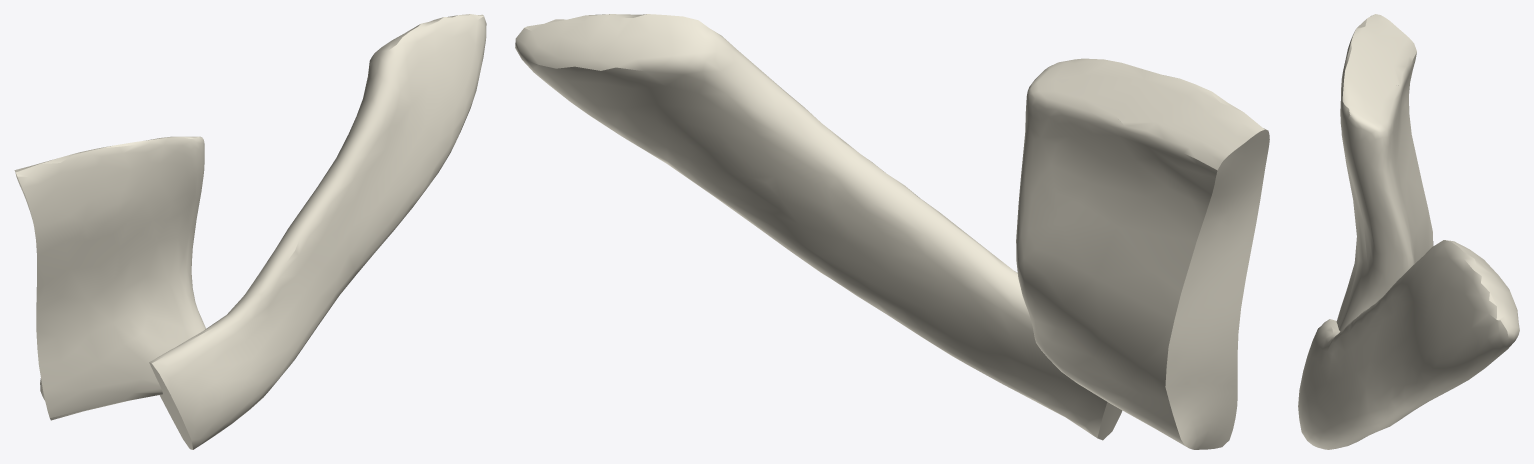
The model's file is fma323753-l_cx305m.glb.
3 renders of one model, left to right at view 1: azimuth 30°, elevation 25°; view 2: azimuth 150°, elevation 25°; view 3: azimuth 270°, elevation 25°, orthographic. The views are drawn at different scales.
Parts seen in each view (by area): view 1: FMA323753-L_CX305M; view 2: FMA323753-L_CX305M; view 3: FMA323753-L_CX305M.
Boxes of the visible parts, box(x1,y1,x2,y2) form: FMA323753-L_CX305M: box(14, 14, 486, 449); FMA323753-L_CX305M: box(515, 14, 1269, 449); FMA323753-L_CX305M: box(1298, 14, 1519, 449).
Bounding box in the file's own units: 0.0205 × 0.0115 × 0.00645.
